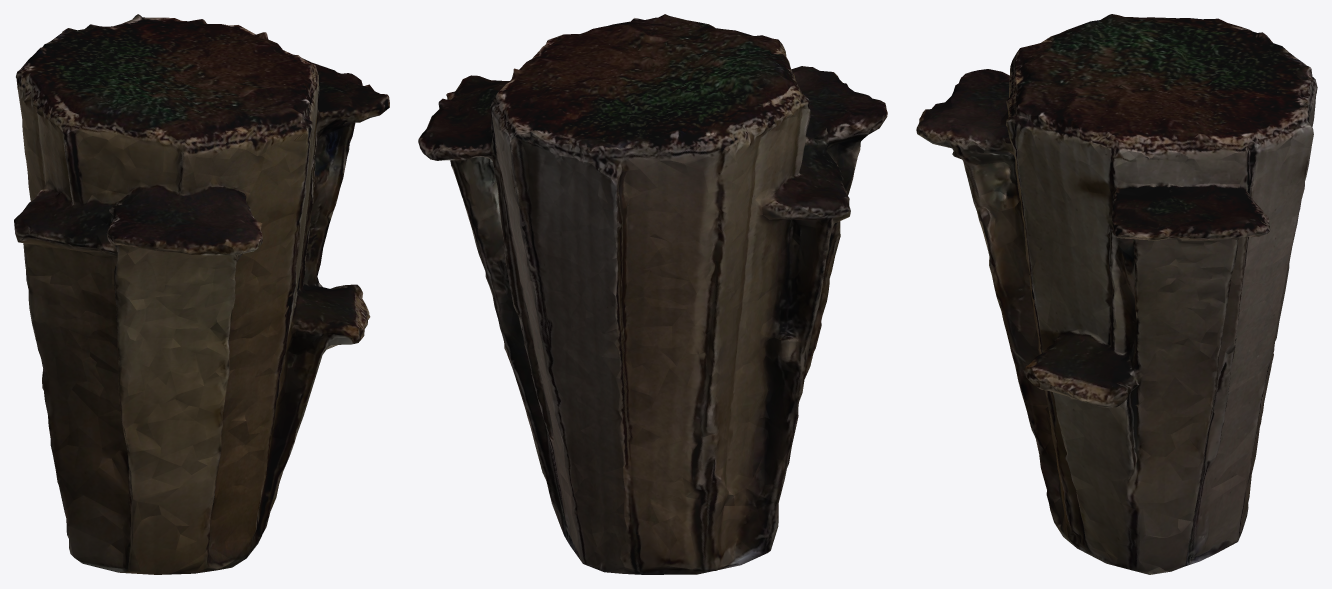
File: Tower.fbx
The picture shows the model from 3 angles, left to right: view 1: azimuth 30°, elevation 25°; view 2: azimuth 150°, elevation 25°; view 3: azimuth 270°, elevation 25°; orthographic projection. The views are drawn at different scales.
Parts seen in each view (by area): view 1: tower; view 2: tower; view 3: tower.
Boxes of the visible parts, x1,y1,x2,y2 form: tower: [14, 14, 389, 574]; tower: [418, 14, 887, 574]; tower: [916, 14, 1317, 574].
Size of the model in its own units: 0.5014 by 0.6027 by 0.4661.
